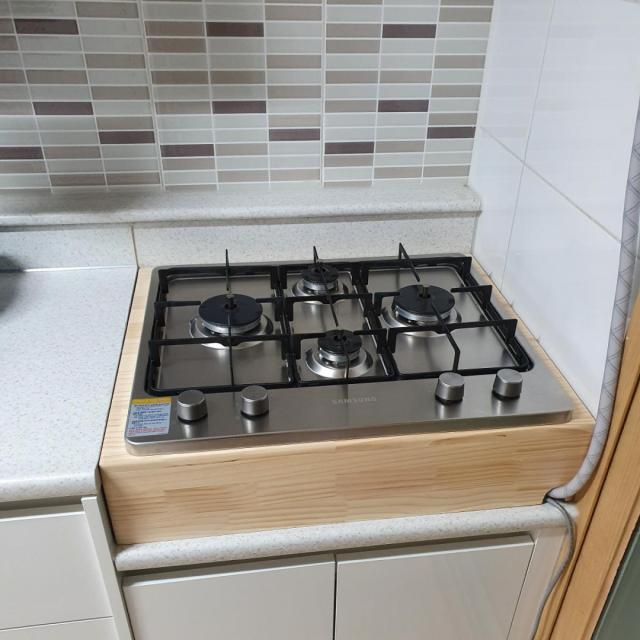knob_ON: (157, 263, 515, 370)
